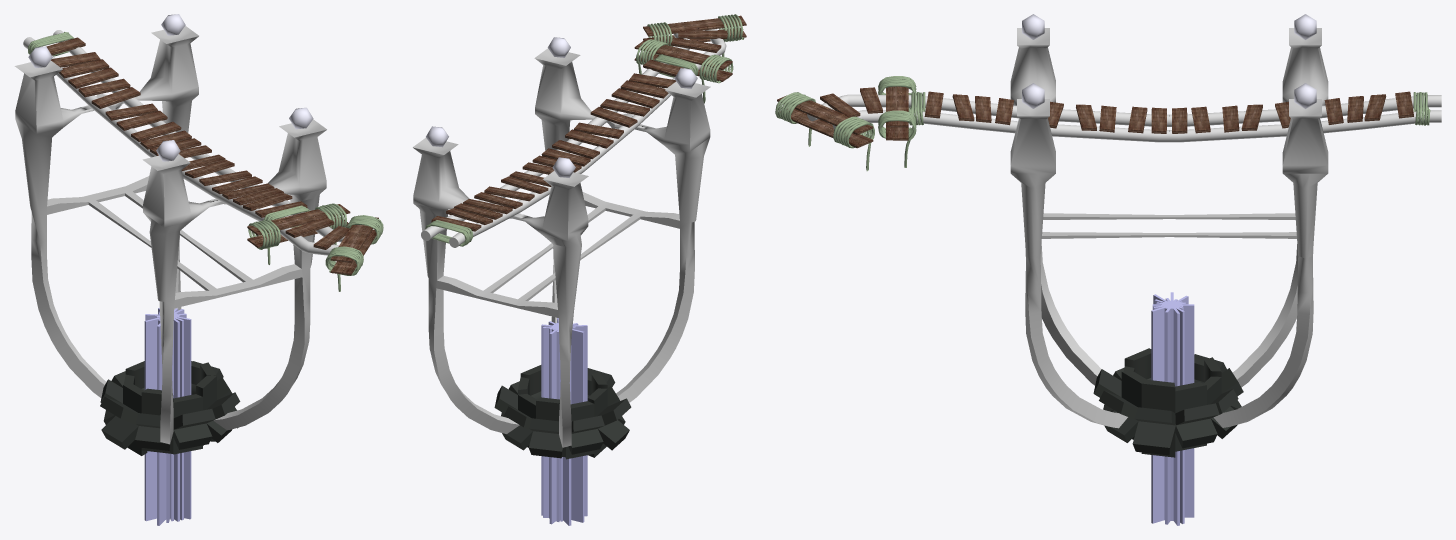
File: 1_bridge_right.fbx
The picture shows the model from 3 angles, left to right: view 1: azimuth 30°, elevation 25°; view 2: azimuth 150°, elevation 25°; view 3: azimuth 270°, elevation 25°; orthographic projection. The views are drawn at different scales.
Parts seen in each view (by area): view 1: 1_right_base, gravityring, 1_right_La, 1_right_La_c, 1_right_verschlag02, 1_right_verschlag02_ropes, 1_right_verschlag, 1_right_verschlag_ropes, 1_right_La_ropes; view 2: 1_right_base, gravityring, 1_right_La, 1_right_verschlag02_ropes, 1_right_La_c, 1_right_verschlag, 1_right_verschlag02, 1_right_La_ropes, 1_right_verschlag_ropes; view 3: 1_right_base, gravityring, 1_right_La, 1_right_verschlag, 1_right_La_c, 1_right_verschlag_ropes, 1_right_verschlag02_ropes, 1_right_verschlag02, 1_right_La_ropes.
Boxes of the visible parts, left/top/right/bottom form: 1_right_base: left=14, top=14, right=326, bottom=444; gravityring: left=100, top=308, right=240, bottom=525; 1_right_La: left=23, top=30, right=307, bottom=231; 1_right_La_c: left=280, top=217, right=350, bottom=255; 1_right_verschlag02: left=247, top=204, right=350, bottom=247; 1_right_verschlag02_ropes: left=248, top=203, right=347, bottom=264; 1_right_verschlag: left=330, top=217, right=378, bottom=275; 1_right_verschlag_ropes: left=325, top=215, right=383, bottom=291; 1_right_La_ropes: left=28, top=32, right=310, bottom=227; 1_right_base: left=412, top=37, right=710, bottom=447; gravityring: left=494, top=318, right=631, bottom=525; 1_right_La: left=421, top=59, right=701, bottom=247; 1_right_verschlag02_ropes: left=636, top=39, right=733, bottom=103; 1_right_La_c: left=671, top=29, right=726, bottom=66; 1_right_verschlag: left=643, top=15, right=746, bottom=44; 1_right_verschlag02: left=634, top=40, right=732, bottom=81; 1_right_La_ropes: left=425, top=54, right=698, bottom=246; 1_right_verschlag_ropes: left=647, top=14, right=744, bottom=56; 1_right_base: left=1010, top=14, right=1328, bottom=428; gravityring: left=1093, top=292, right=1243, bottom=525; 1_right_La: left=908, top=91, right=1441, bottom=142; 1_right_verschlag: left=777, top=95, right=873, bottom=148; 1_right_La_c: left=807, top=87, right=885, bottom=131; 1_right_verschlag_ropes: left=775, top=92, right=874, bottom=171; 1_right_verschlag02_ropes: left=878, top=76, right=916, bottom=167; 1_right_verschlag02: left=886, top=86, right=908, bottom=140; 1_right_La_ropes: left=908, top=92, right=1430, bottom=125.
Size of what is drawn, in the model's own units: 46 by 113 by 147.
Materials: 7 (1 with a texture image).
